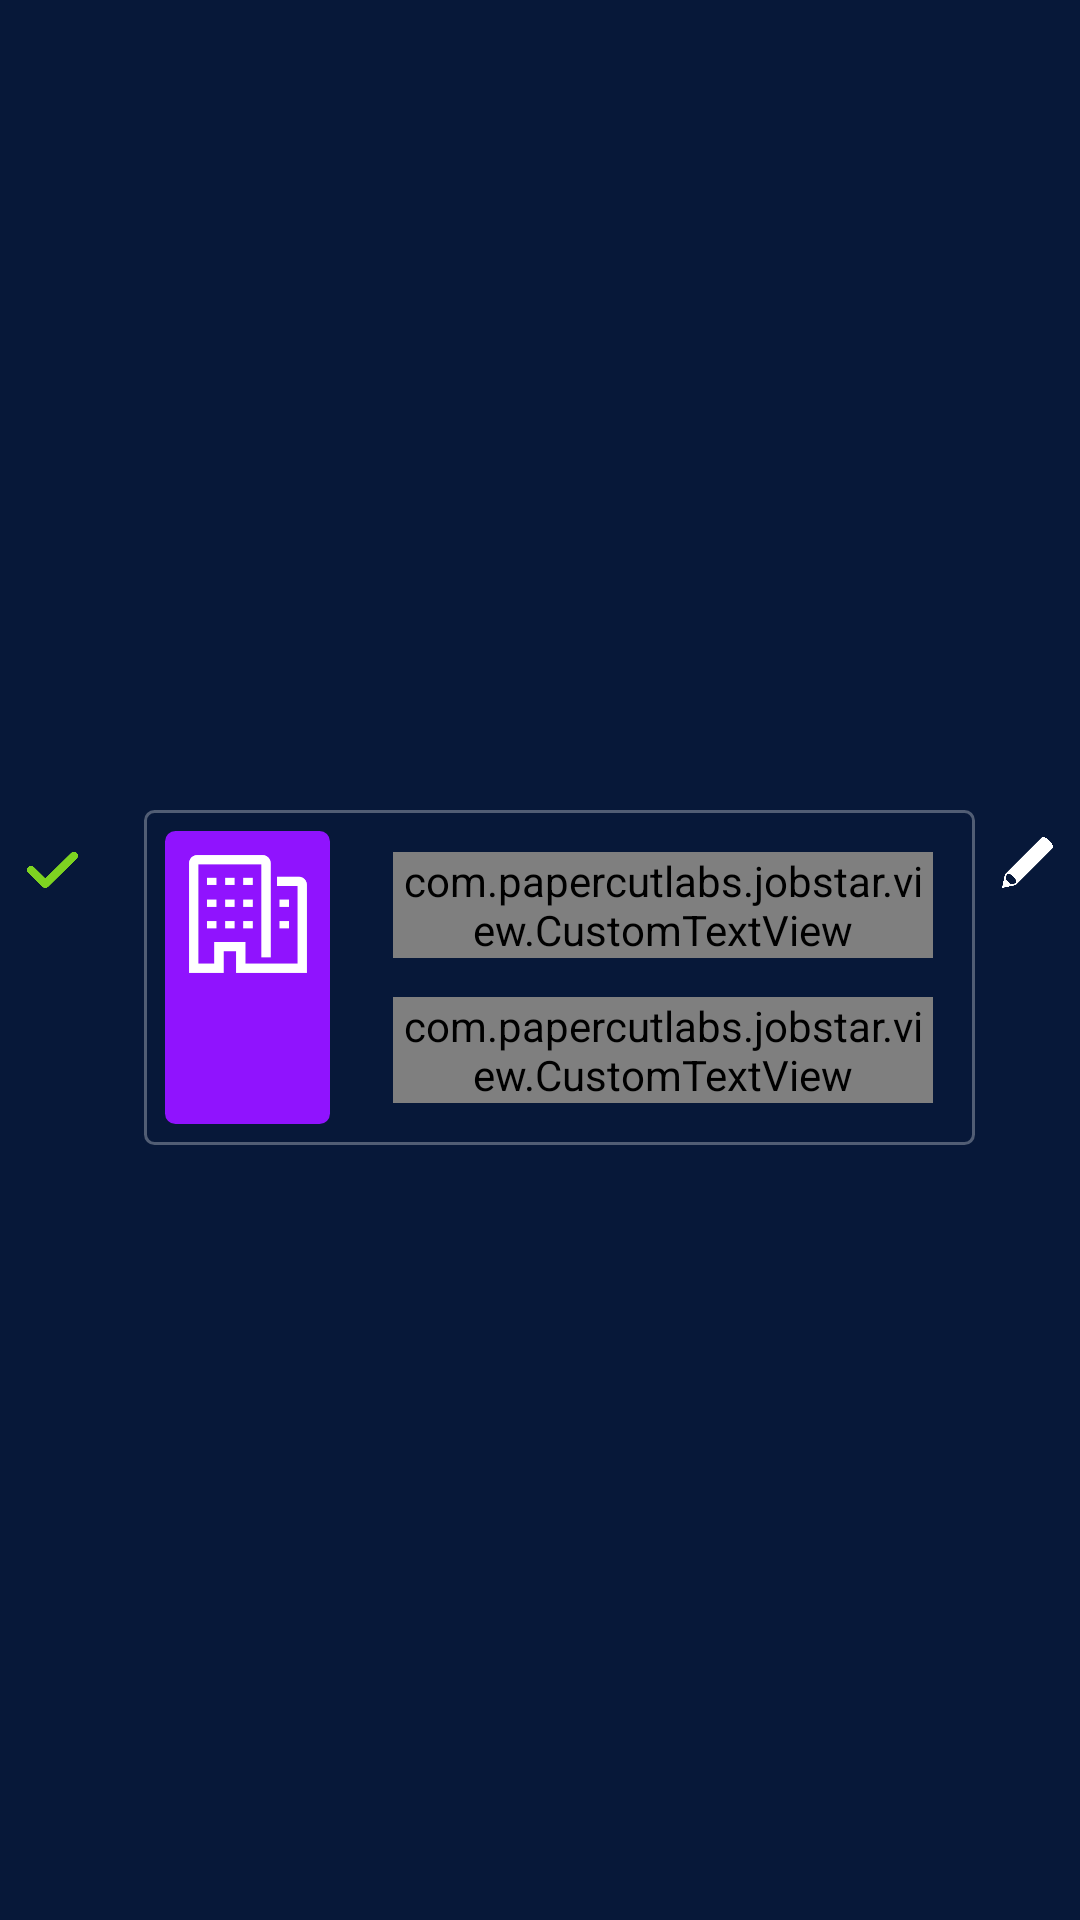

Where icons sit on this 1080 × 1920 app screen, as [x1,y1,x2,y2]:
edit: [1002,837,1053,888]
organization: [165,831,330,996]
tick: [27,852,78,888]
